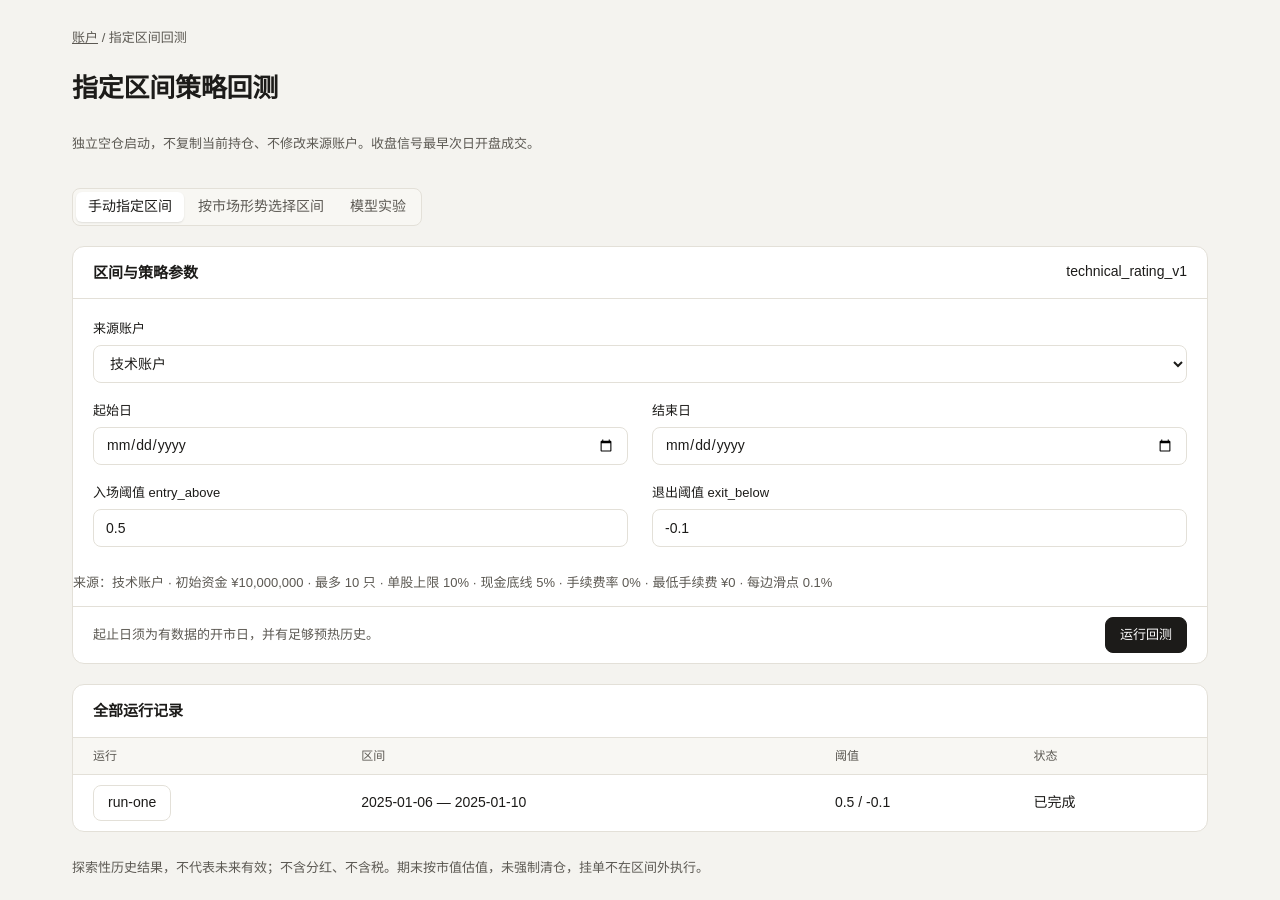
忙时显示服务端错误，表单可再次提交而非永久 loading
Type "2025-01-10" into the date field labelled "结束日" at [920, 446], box [652,427,1187,465]
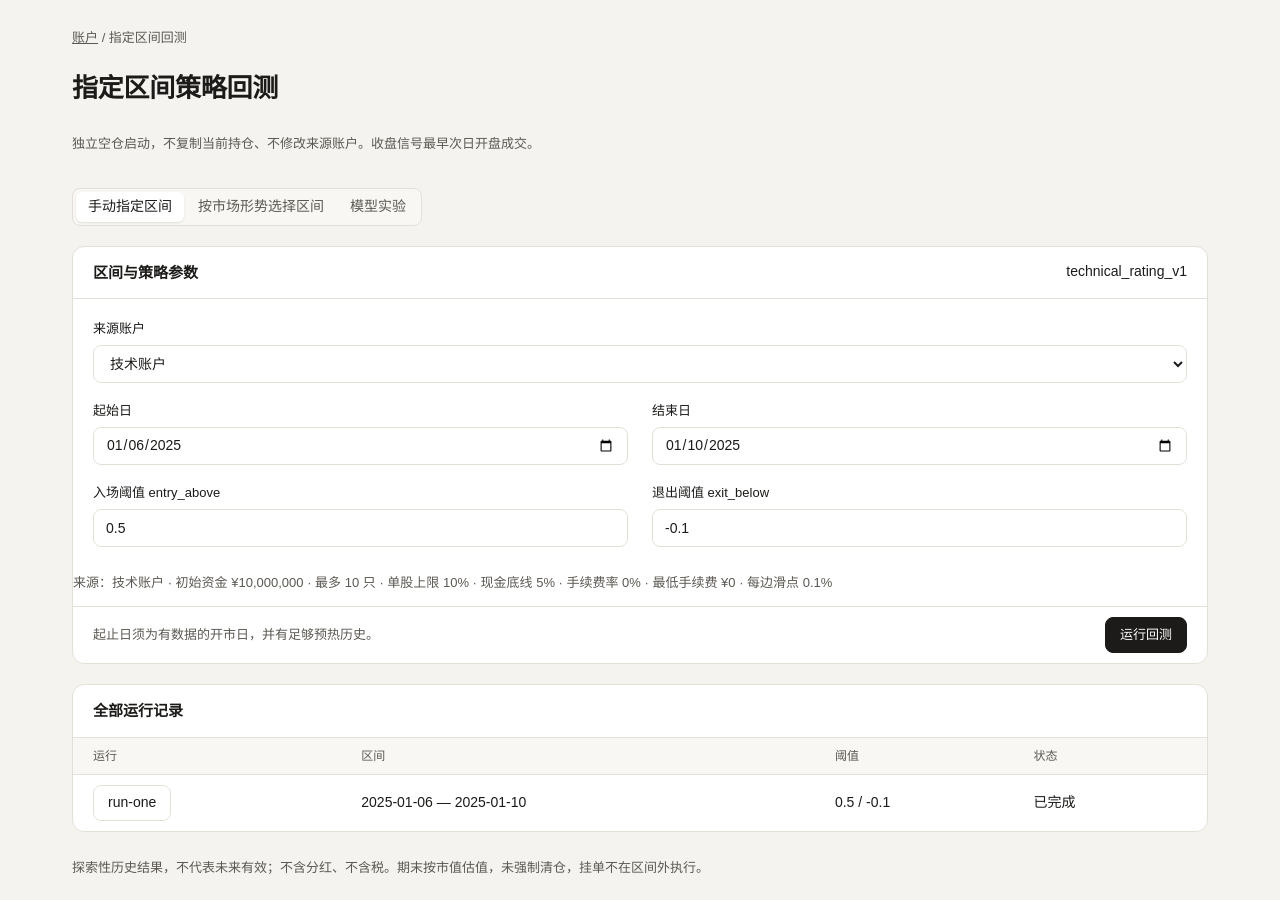
Click the button "运行回测" at [1146, 635], box [1105,617,1187,653]
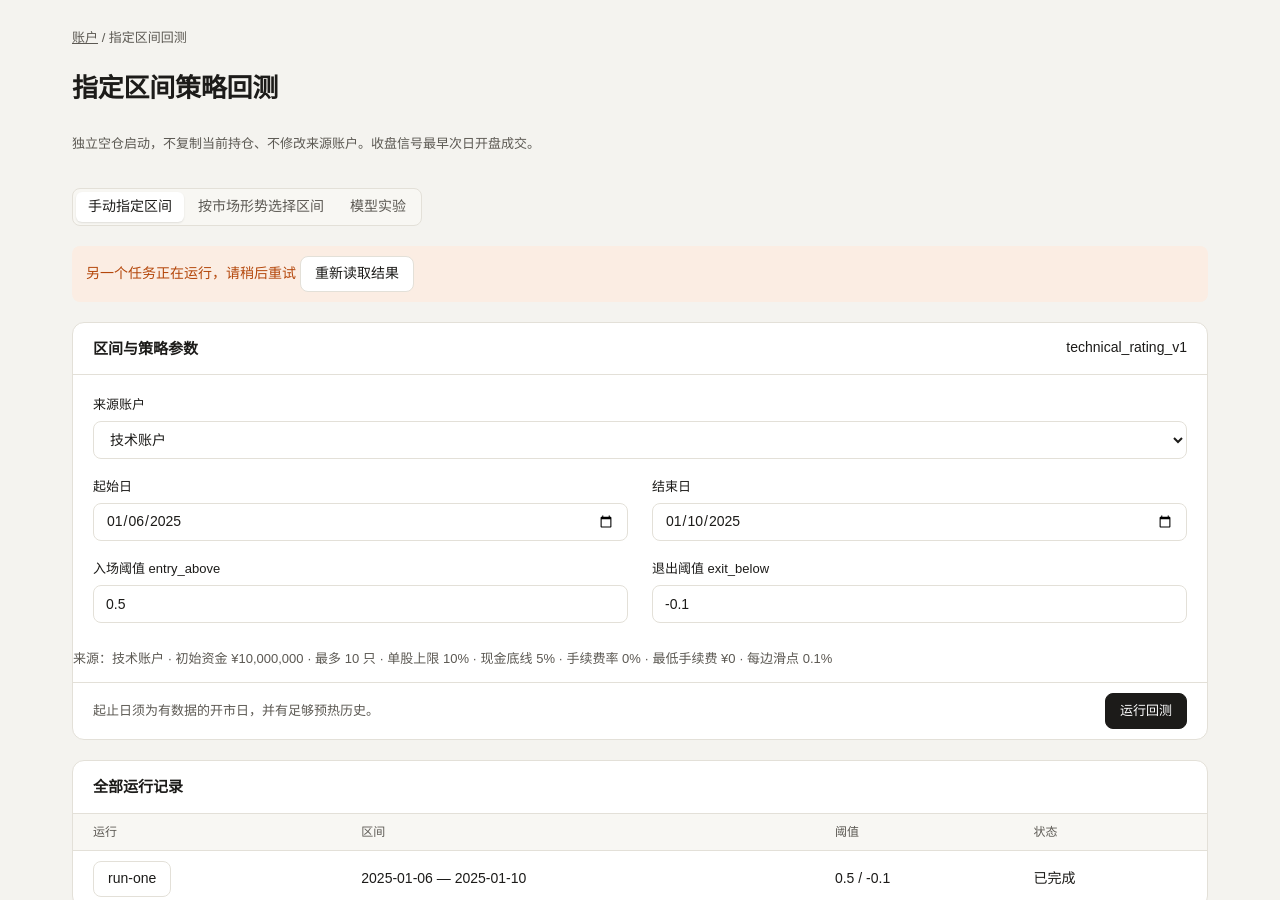
Check: the button "运行回测" is enabled, box [1105,693,1187,729]
Check: the message shows "另一个任务正在运行", box [86,265,296,281]
